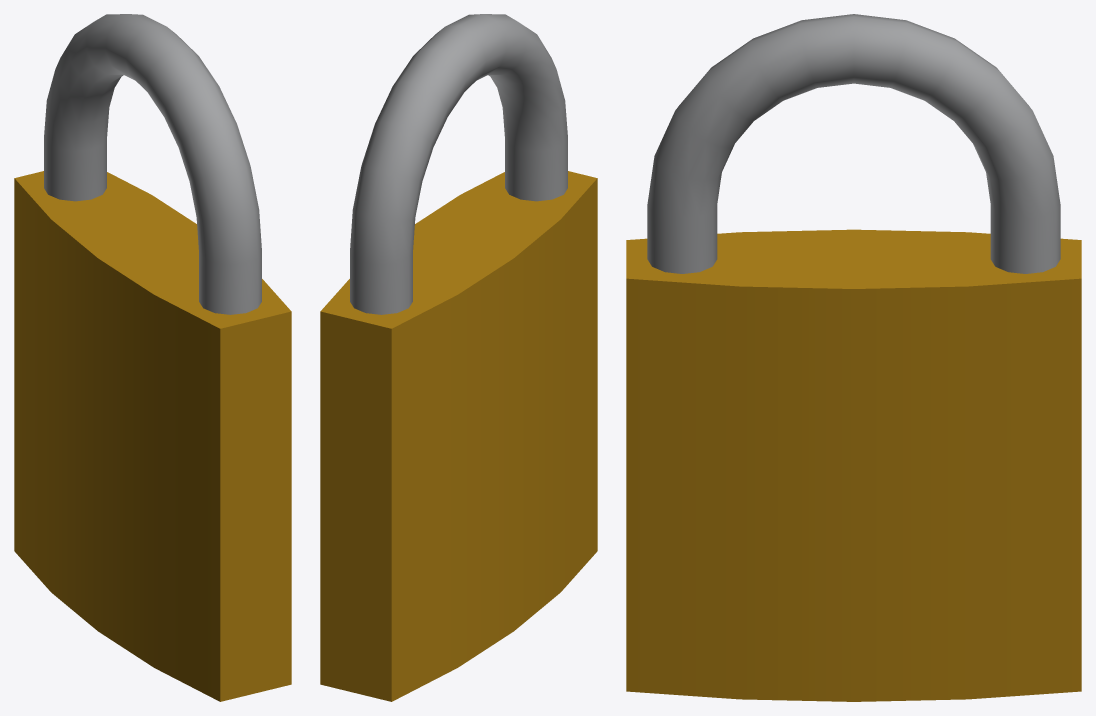
The model's file is gizmo_lock_closed.glb.
3 views of the same model, side by side, from view 1: azimuth 30°, elevation 25°; view 2: azimuth 150°, elevation 25°; view 3: azimuth 270°, elevation 25° (orthographic). The views are drawn at different scales.
Visible parts, largest first — view 1: 0.074, 1.046; view 2: 0.074, 1.046; view 3: 0.074, 1.046.
Part boxes in pixels (x1,y1,x2,y2): 0.074: (14, 171, 291, 701); 1.046: (44, 14, 261, 314); 0.074: (320, 171, 597, 701); 1.046: (350, 14, 567, 314); 0.074: (626, 229, 1081, 701); 1.046: (647, 14, 1060, 273).
Bounding box in the file's own units: 0.0324 × 0.1666 × 0.105.
